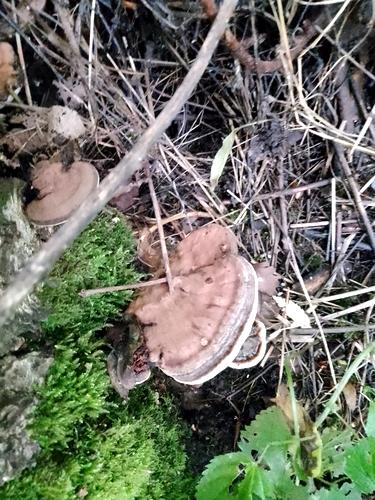Ganoderma - Fruit Body: (129, 216, 264, 388), (27, 161, 100, 227)
